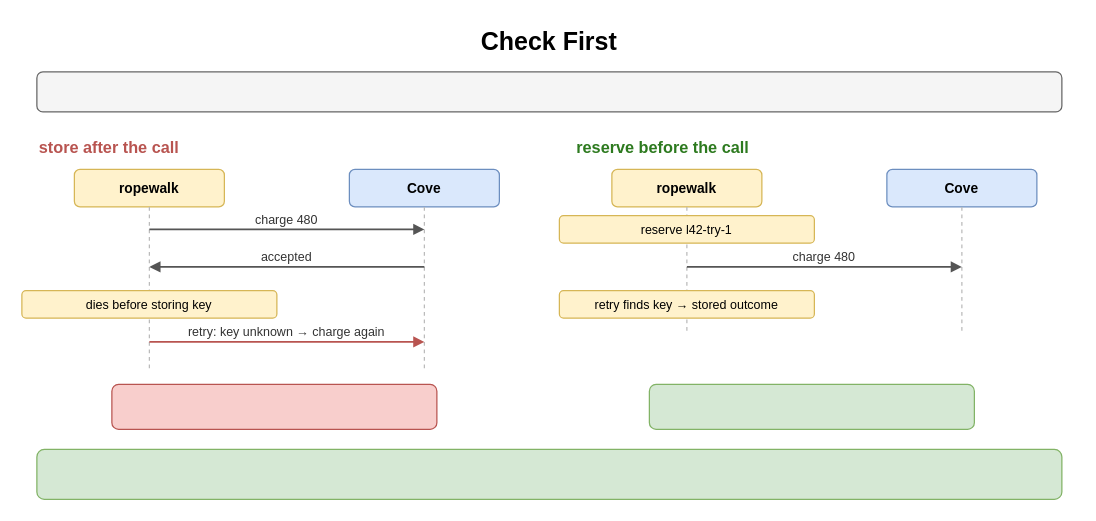
This 1096x521 diagram has some shape labels left out. Here are the shapes that lost their labels. From the top down, the centre of each, then its label:
pixel 549 91: Store the key after Cove, or reserve it before Cove?
pixel 274 406: 2 Cove charges
pixel 811 406: 1 Cove charge
pixel 549 473: Answer: 2 · 1
